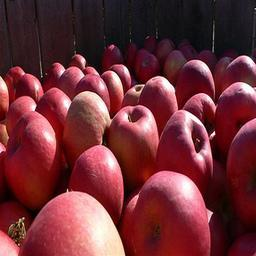apple: (130, 169, 211, 256), (14, 193, 122, 255), (6, 110, 61, 214), (156, 110, 214, 194), (105, 103, 158, 192), (69, 144, 126, 224), (63, 90, 111, 159), (215, 81, 256, 147), (138, 76, 177, 138), (175, 60, 215, 107), (35, 88, 71, 132)
